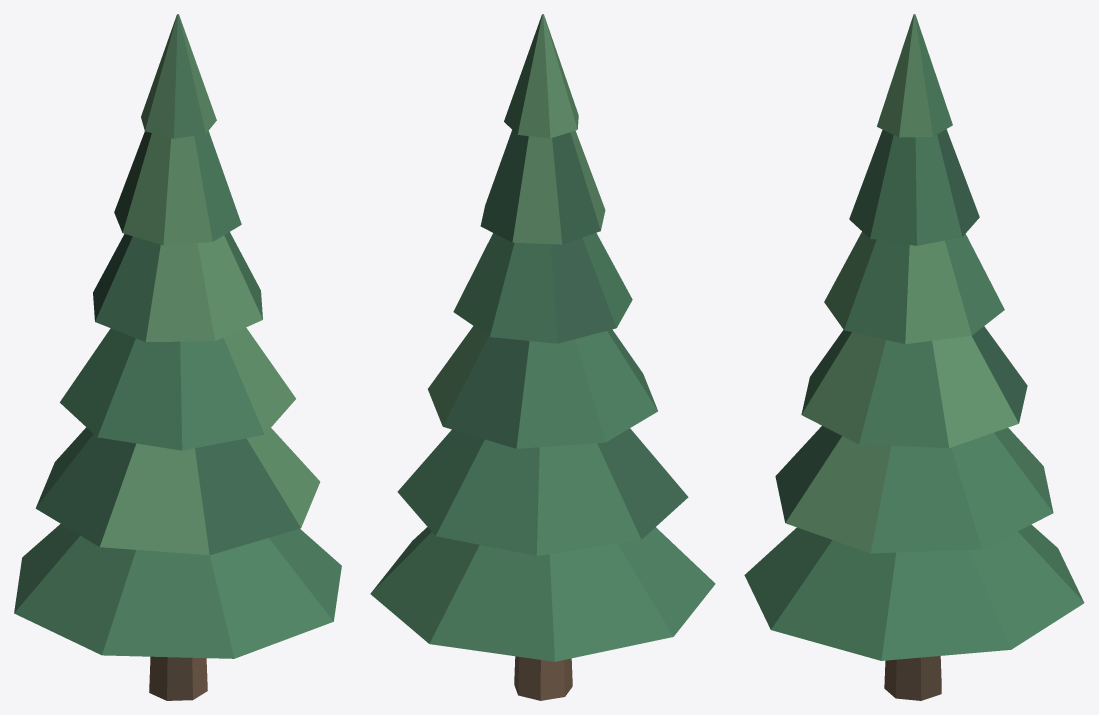
The model's file is tree_pine_01.glb.
The picture shows the model from 3 angles, left to right: view 1: azimuth 30°, elevation 25°; view 2: azimuth 150°, elevation 25°; view 3: azimuth 270°, elevation 25°; orthographic projection.
Visible parts, largest first — view 1: tree_pine_01; view 2: tree_pine_01; view 3: tree_pine_01.
Part boxes in pixels (x1,y1,x2,y2): tree_pine_01: (14,14,341,700); tree_pine_01: (370,14,715,700); tree_pine_01: (744,14,1084,700).
Size of the model in its own units: 3.38 by 7.4 by 3.38.
